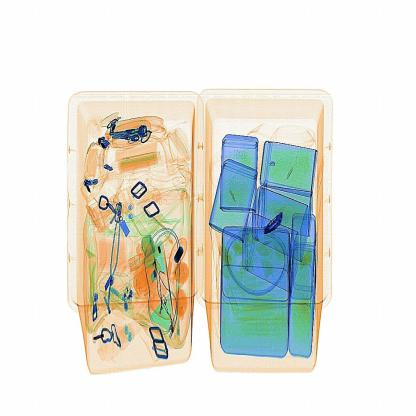knife: (264, 207, 289, 241)
